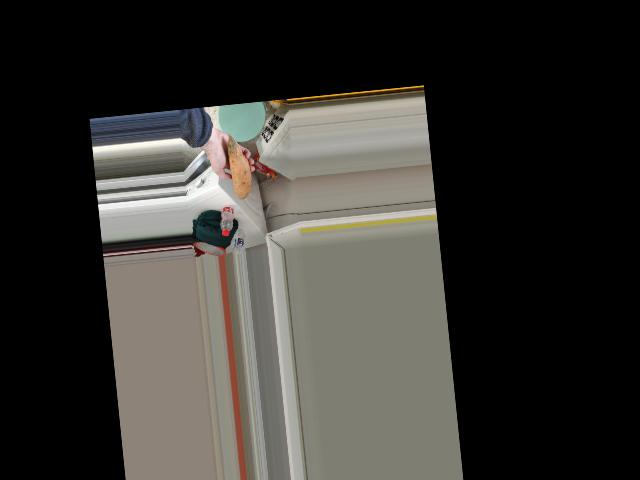sweet_potato: (226, 136, 253, 193)
